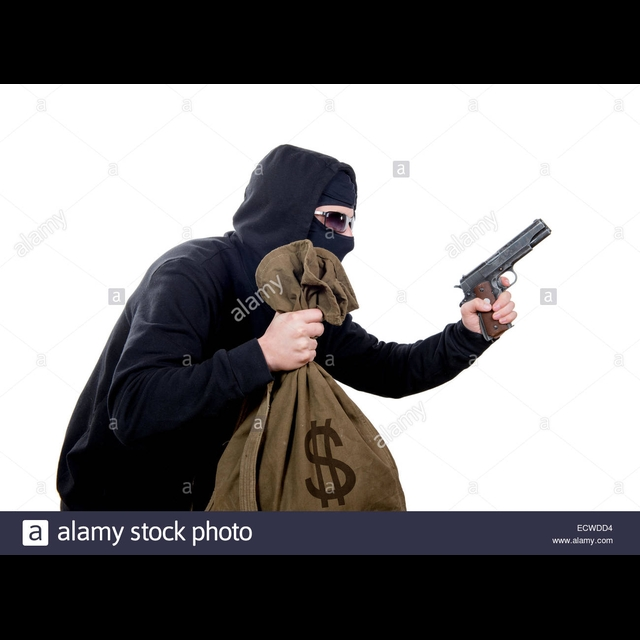SILAH: (447, 212, 564, 350)
